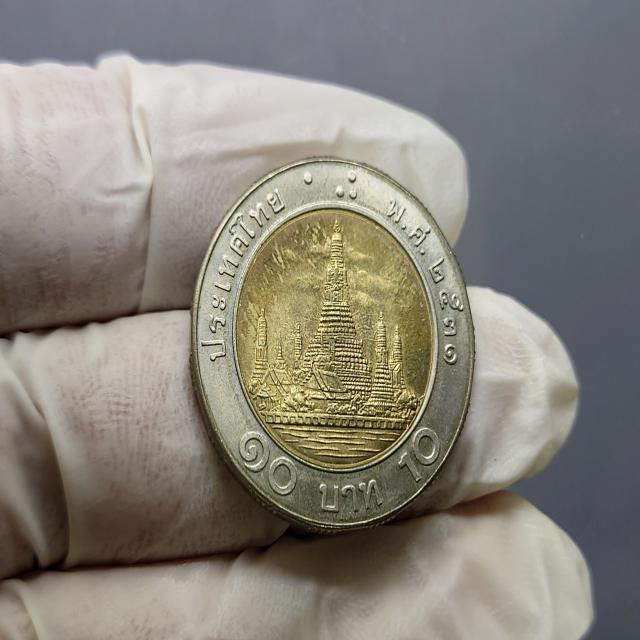10 Bath: (191, 156, 478, 540)
